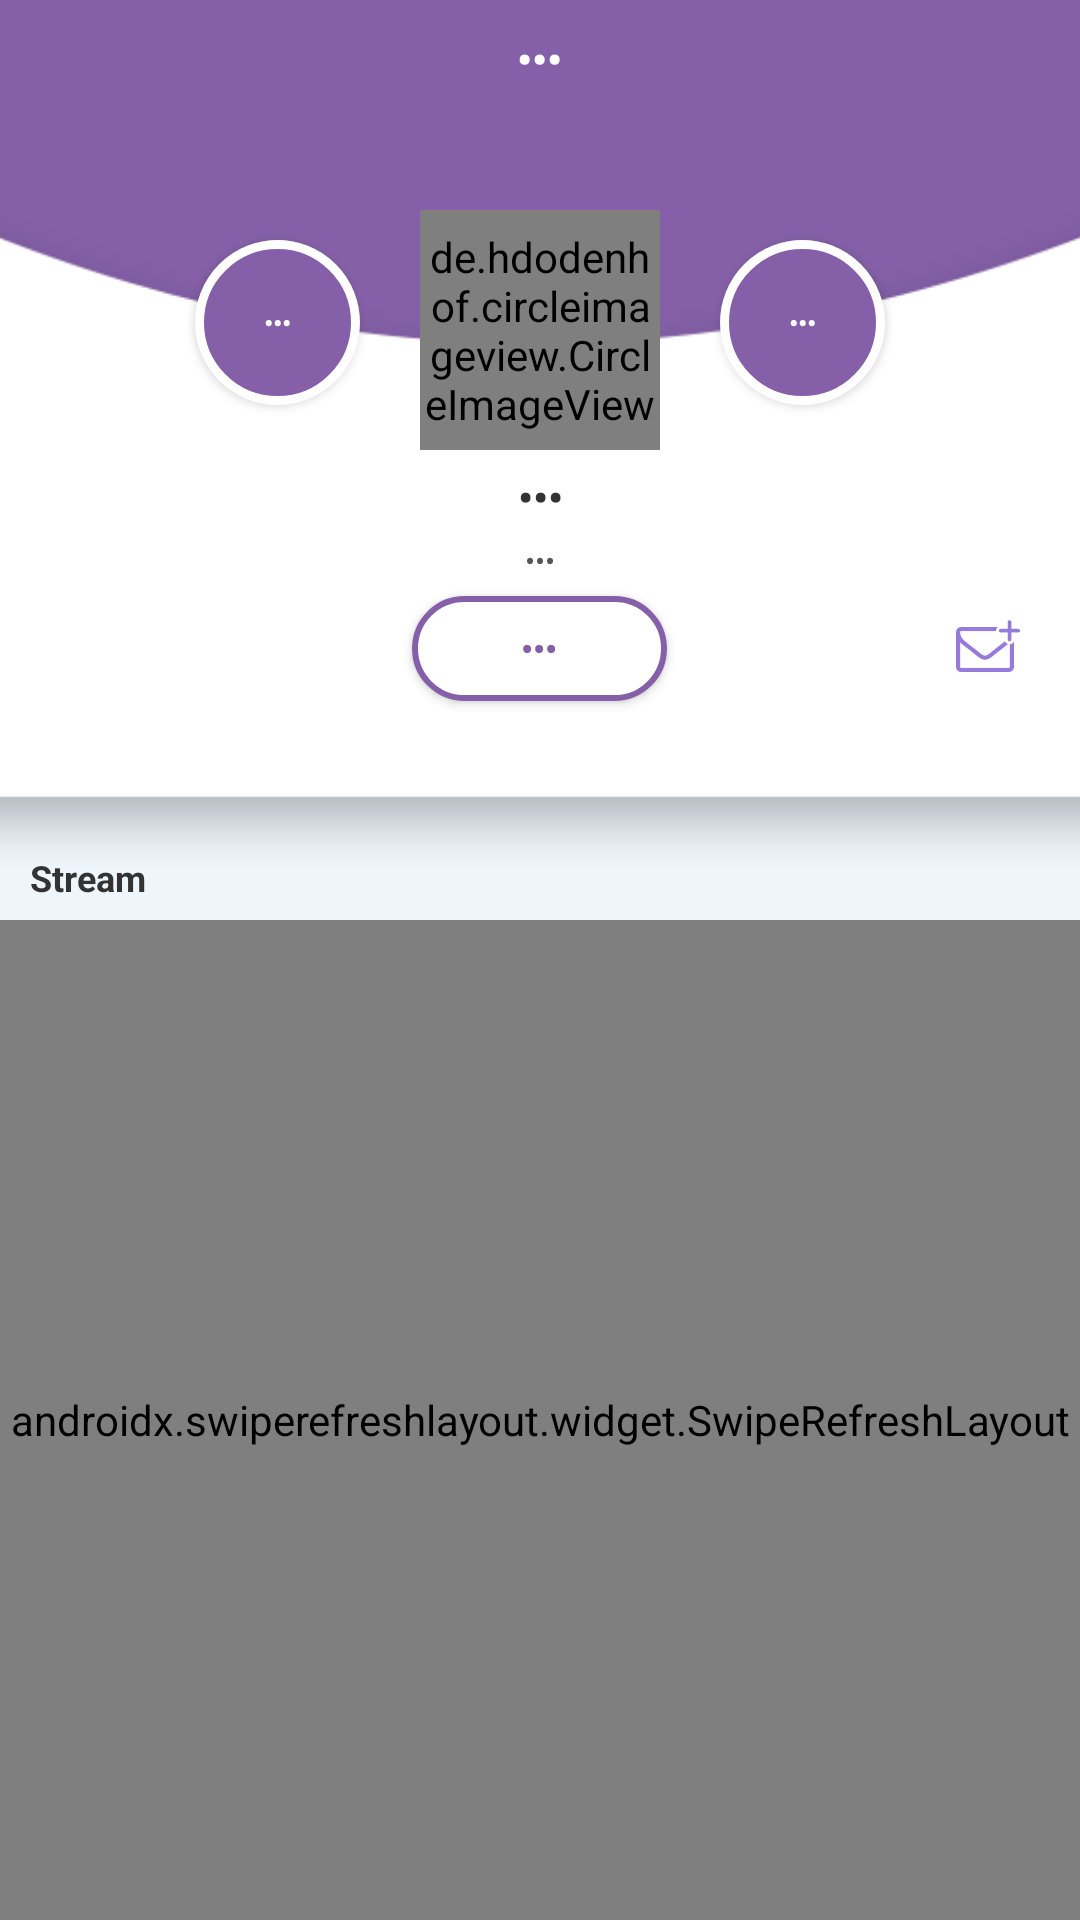

Named icons in this screenshot (1080 x 1920) and their centers, (x,y):
message butt: (988,646)
